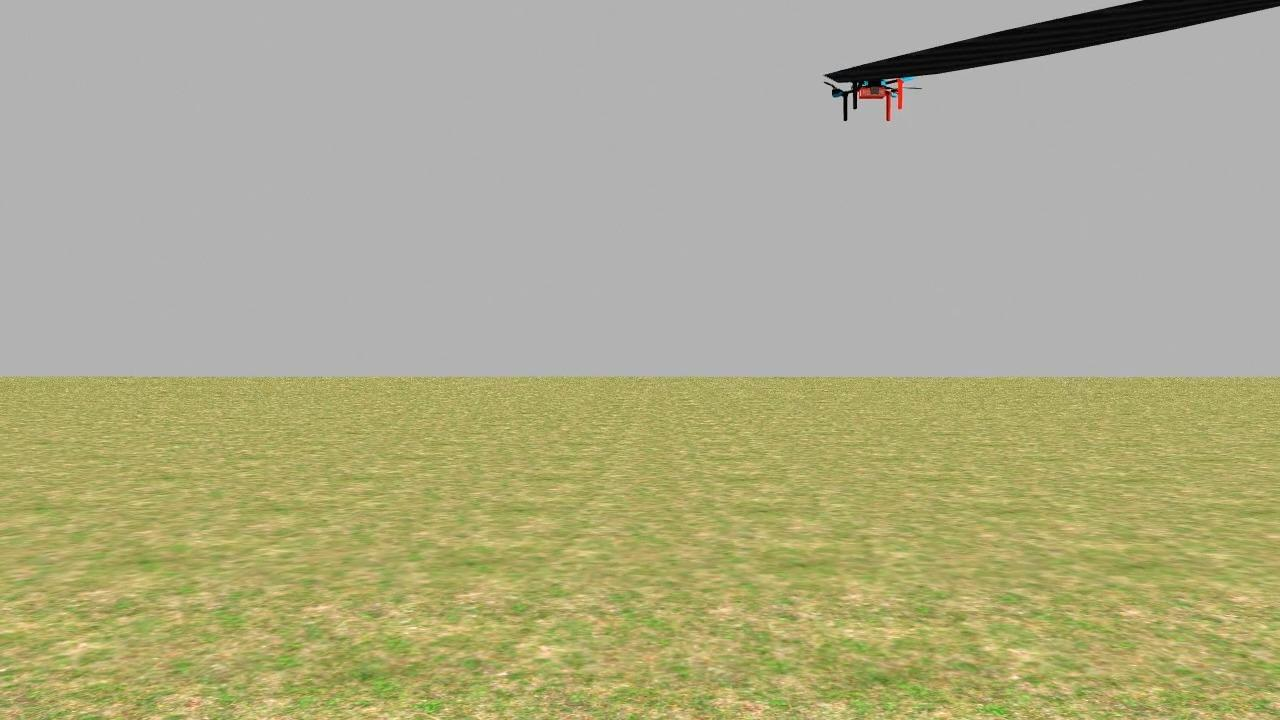UAV: (820, 52, 927, 121)
